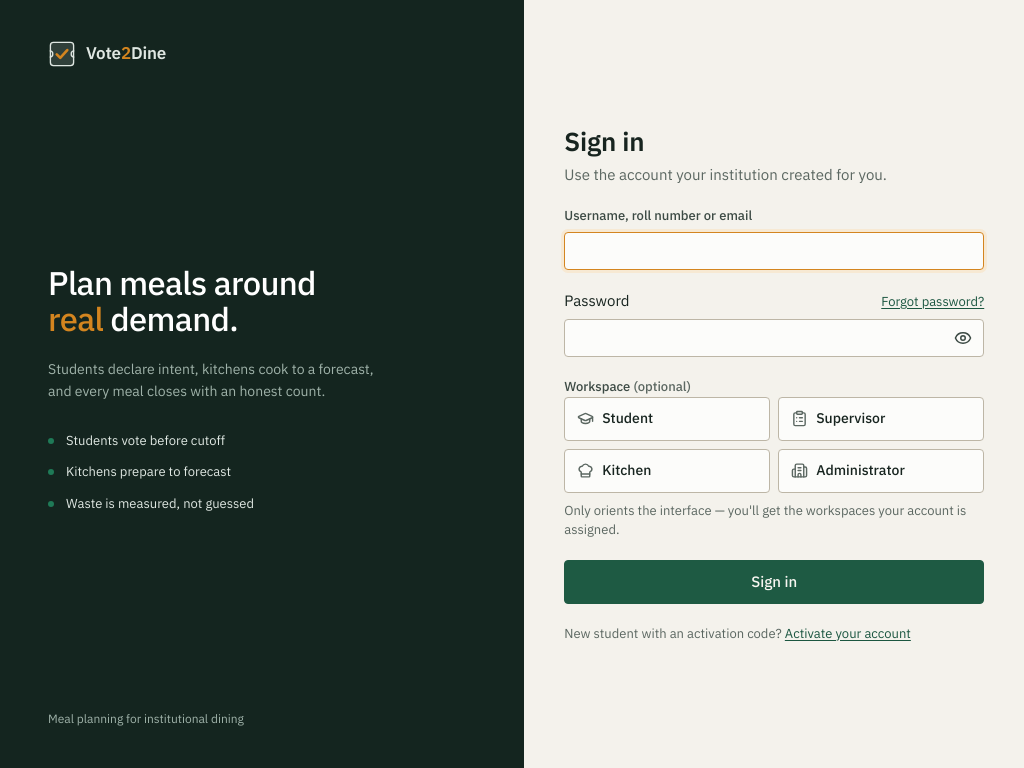
Login › explains which workspaces an account actually has when a role is refused
Type "demo.student" into the field labelled "Username, roll number or email".
click(774, 251); type("demo.student")  # box [564,232,984,270]
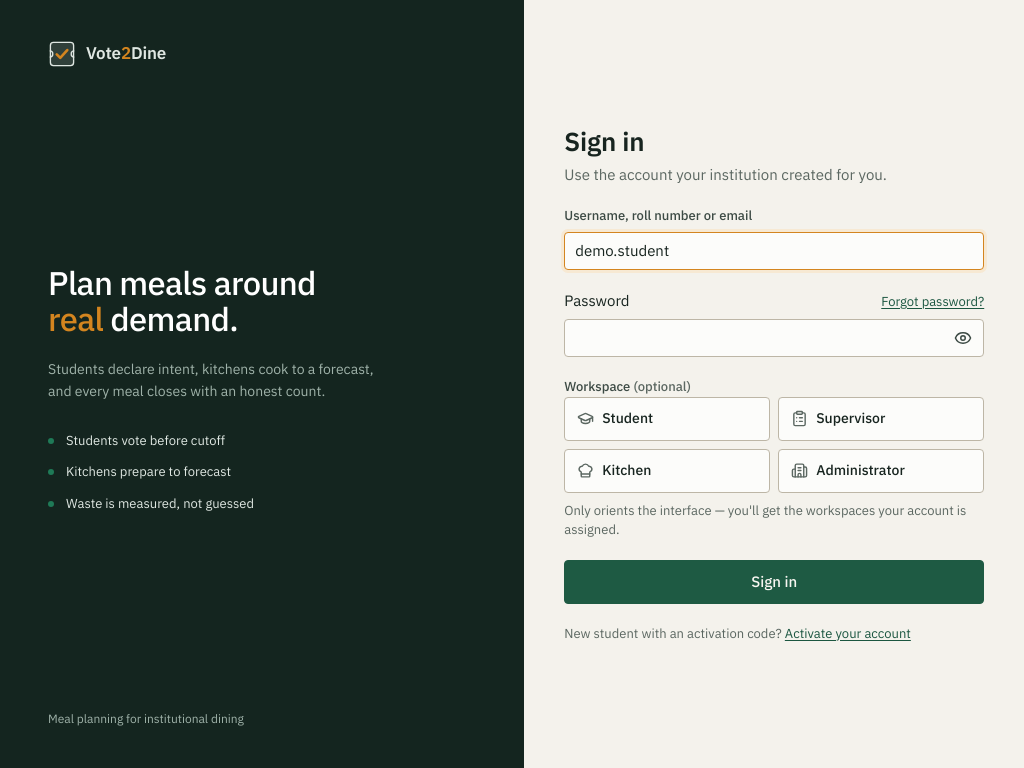
Type "some-password" into the password field labelled "Password".
click(774, 338); type("some-password")  # box [564,318,984,357]
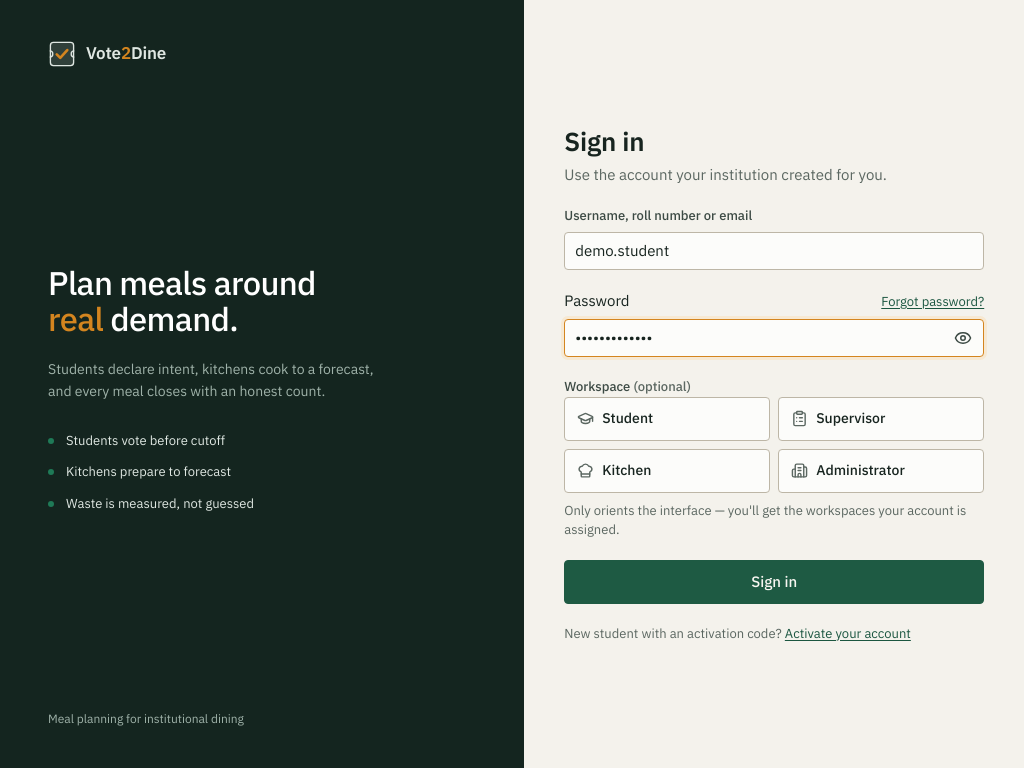
Click the text "Administrator".
click(881, 470)  # box [778,448,984,492]
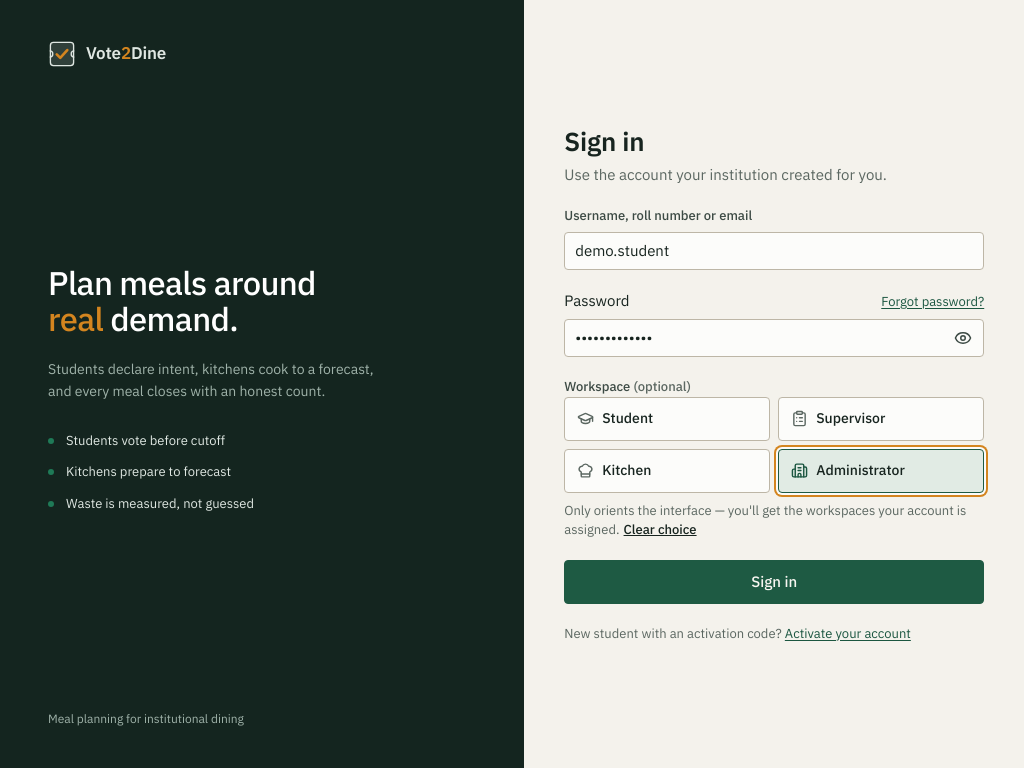
Click the button "Sign in".
click(774, 582)  # box [564,560,984,604]
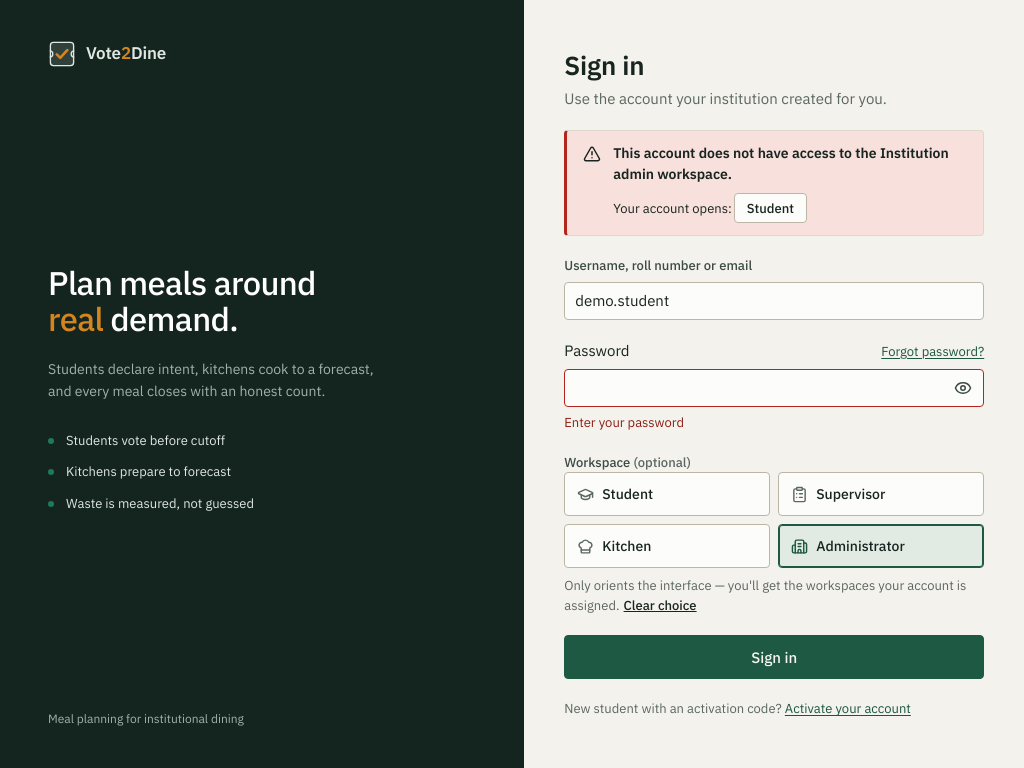
Now the text "does not have access to the Institution admin workspace" is shown, box [613,144,949,183]
Now the button "Student" is shown, box [734,193,807,223]
